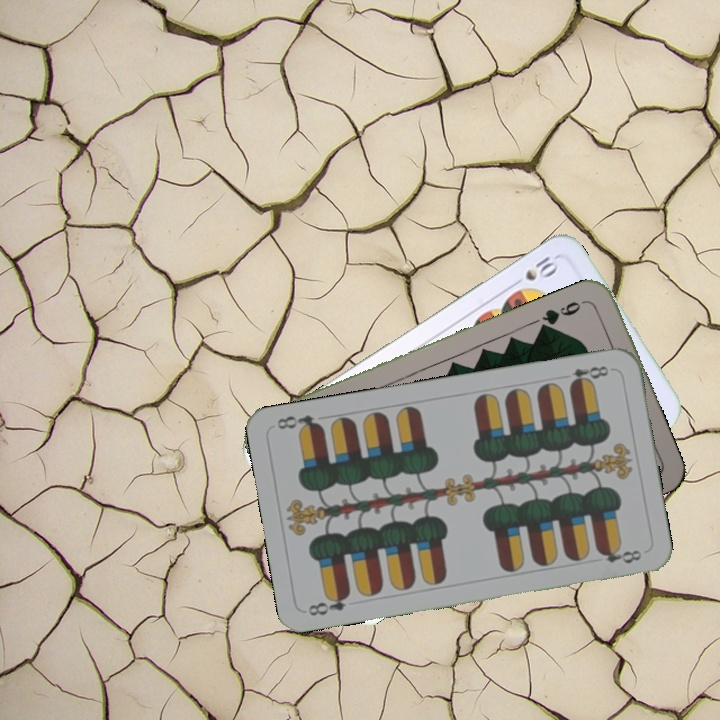E8: (304, 588, 353, 619), (565, 361, 612, 389)
G9: (536, 297, 583, 331)
S10: (507, 252, 562, 290)
